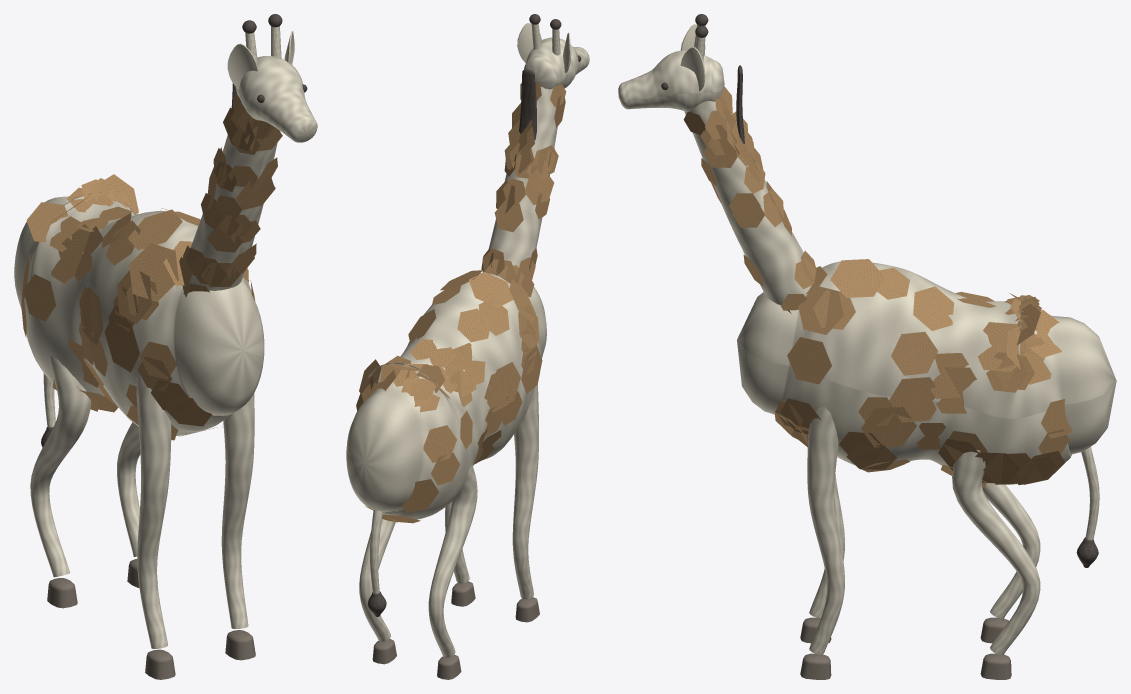
File: other-reticulated-giraffe.glb
The picture shows the model from 3 angles, left to right: view 1: azimuth 30°, elevation 25°; view 2: azimuth 150°, elevation 25°; view 3: azimuth 270°, elevation 25°; orthographic projection. The views are drawn at different scales.
Visible parts, largest first — view 1: reticulated-giraffe; view 2: reticulated-giraffe; view 3: reticulated-giraffe.
Boxes of the visible parts, x1,y1,x2,y2 form: reticulated-giraffe: (14, 14, 317, 679); reticulated-giraffe: (346, 14, 589, 679); reticulated-giraffe: (618, 14, 1116, 679).
Bounding box in the file's own units: 1.03 × 5.11 × 3.62.
6 materials, 3 textured.
